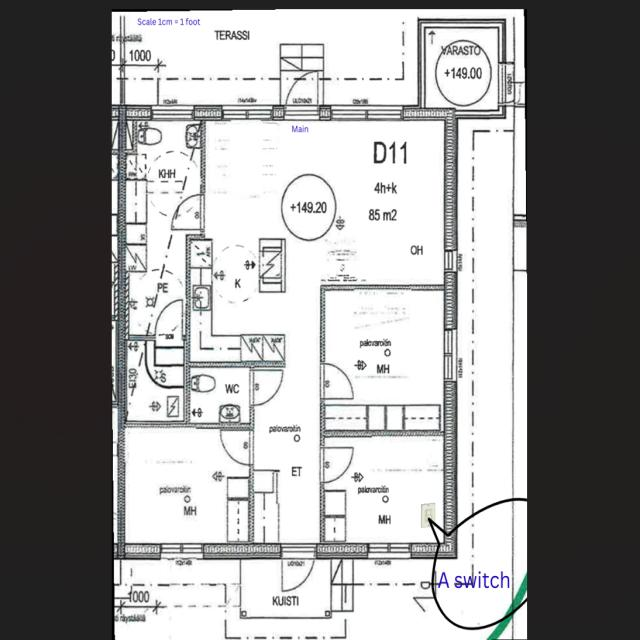main: (267, 63, 332, 138)
switch: (416, 497, 438, 529)
wall: (440, 99, 463, 338), (441, 373, 462, 563), (201, 538, 284, 564), (315, 538, 371, 565), (400, 101, 460, 125), (407, 540, 463, 565), (116, 540, 165, 567), (192, 102, 226, 123)
